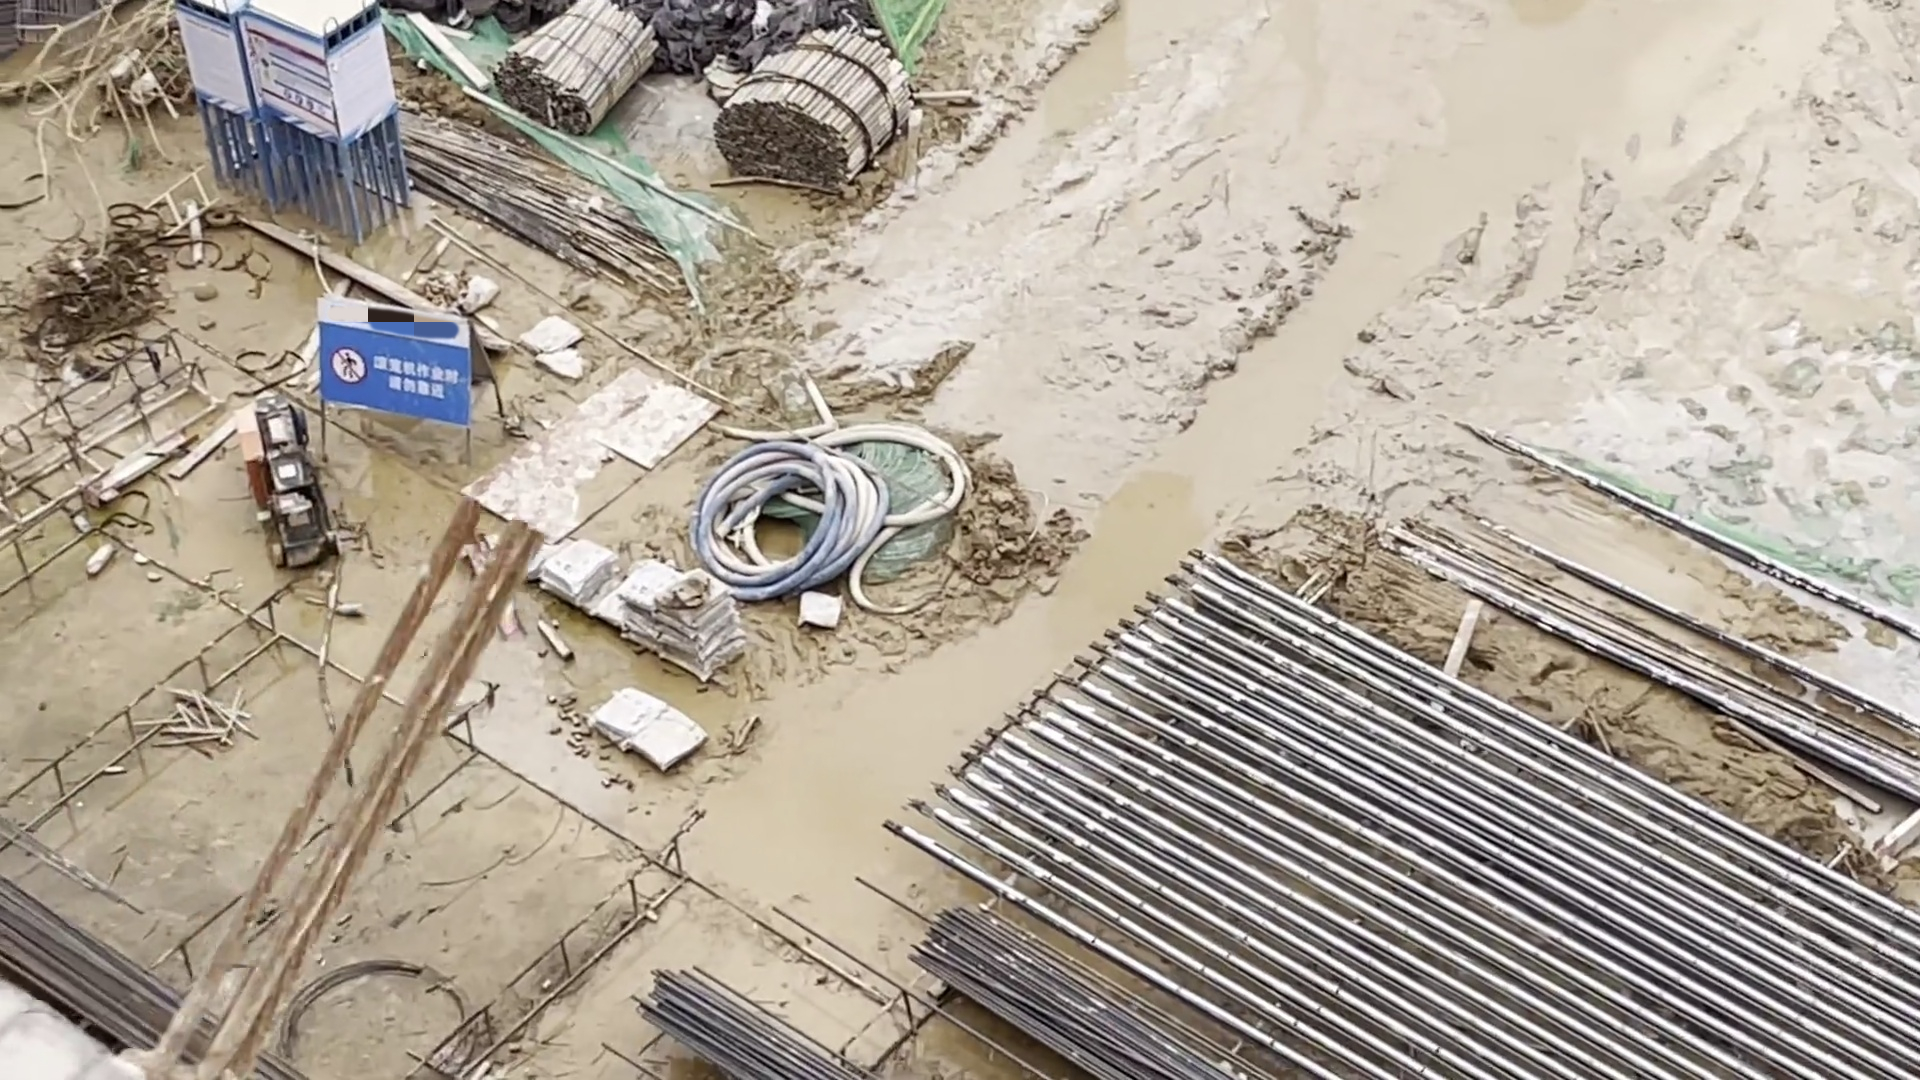rebar: (881, 880, 1240, 1080), (634, 953, 868, 1080)
slogan: (311, 324, 471, 417)
wood: (713, 26, 907, 189), (489, 4, 655, 135)
